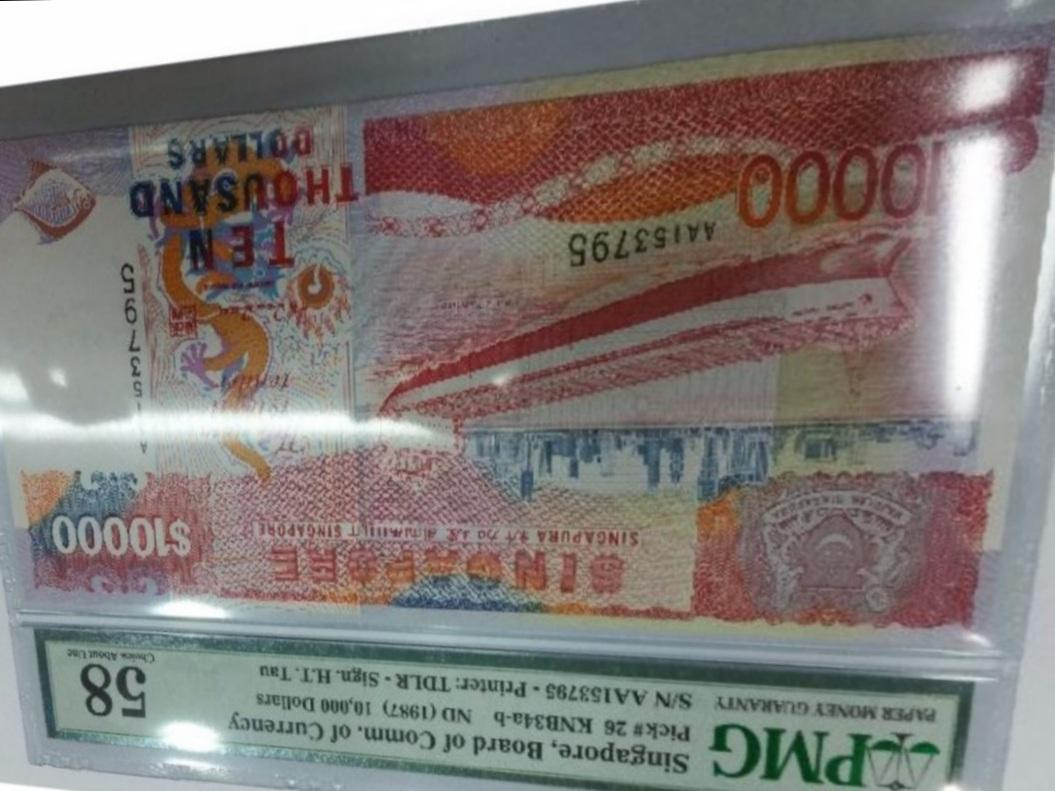10000SingaporeDollar: (0, 82, 1020, 608)
